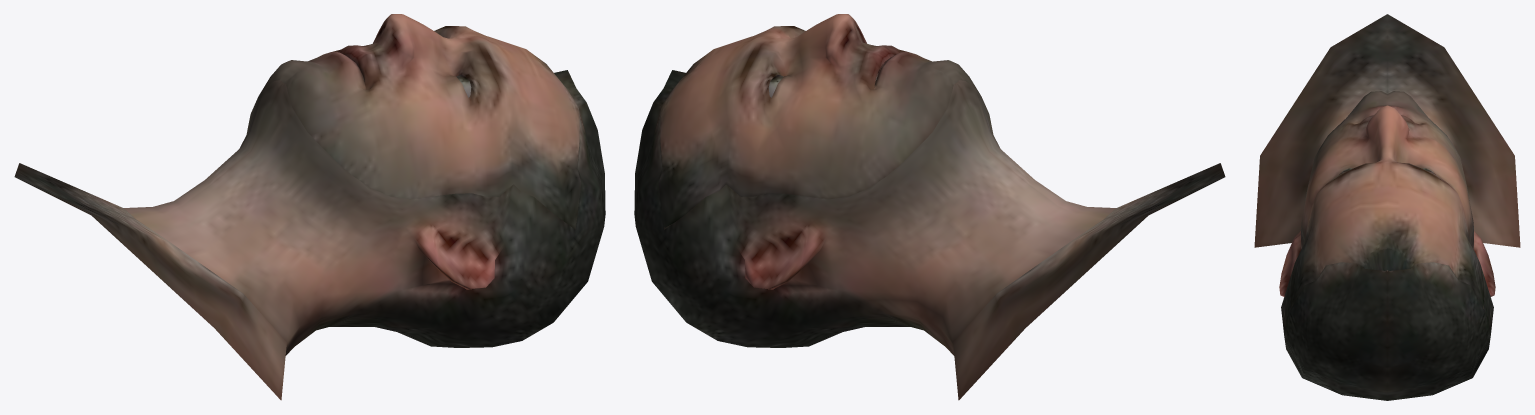
File: head_british_joel_driver.glb
The picture shows the model from 3 angles, left to right: view 1: azimuth 30°, elevation 25°; view 2: azimuth 150°, elevation 25°; view 3: azimuth 270°, elevation 25°; orthographic projection. The views are drawn at different scales.
Bounding box in the file's own units: 17.2 × 9.48 × 8.79.
1 material, 1 textured.
